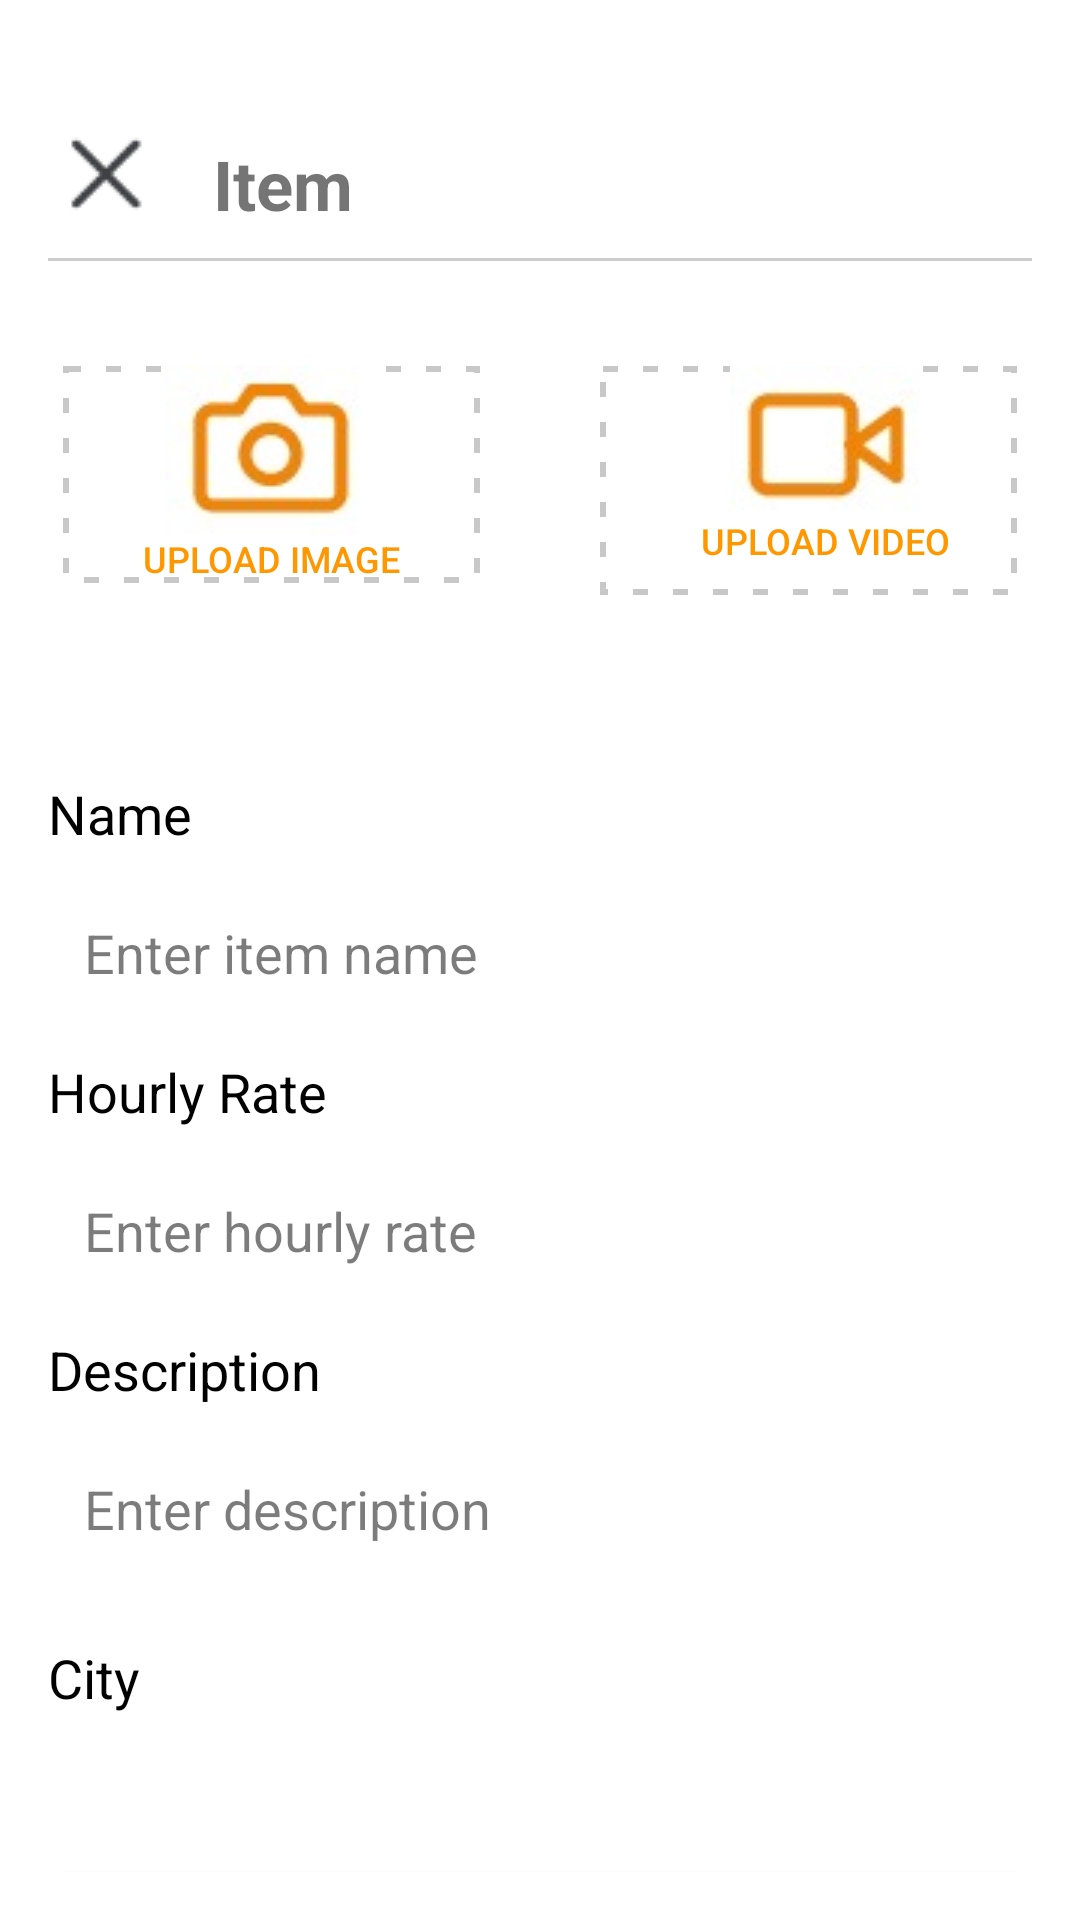

Icon bounding boxes for this 1080w x 1920h phone screenshot, format [x1,y1,x2,y2]:
cancel: [71,139,142,208]
